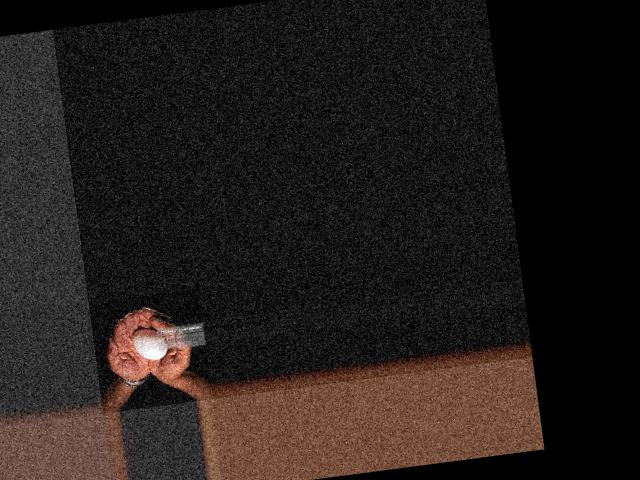egg: (130, 325, 168, 362)
